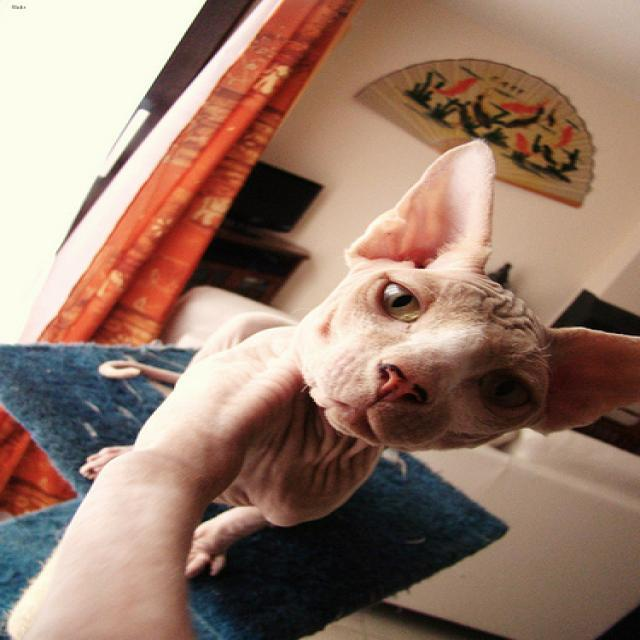Sphynx: (290, 127, 640, 452)
